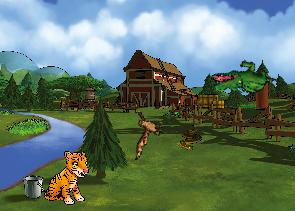crocodile: (208, 50, 277, 108)
eagle: (123, 106, 169, 160)
tiger: (44, 151, 89, 205)
